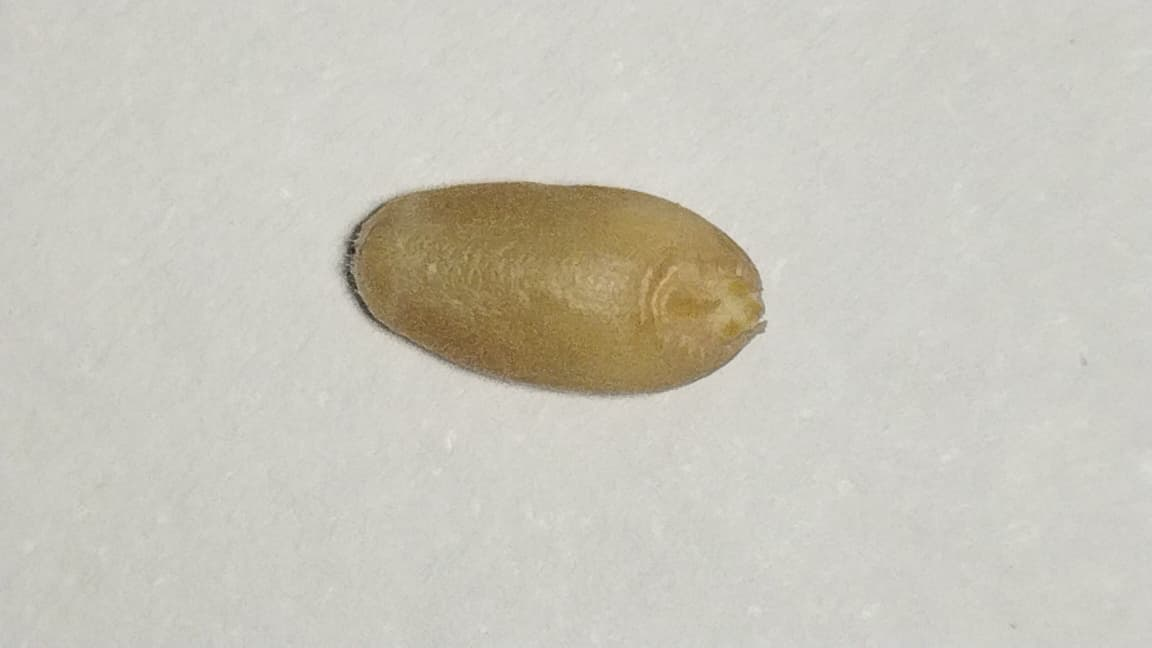healthy: (346, 179, 765, 397)
